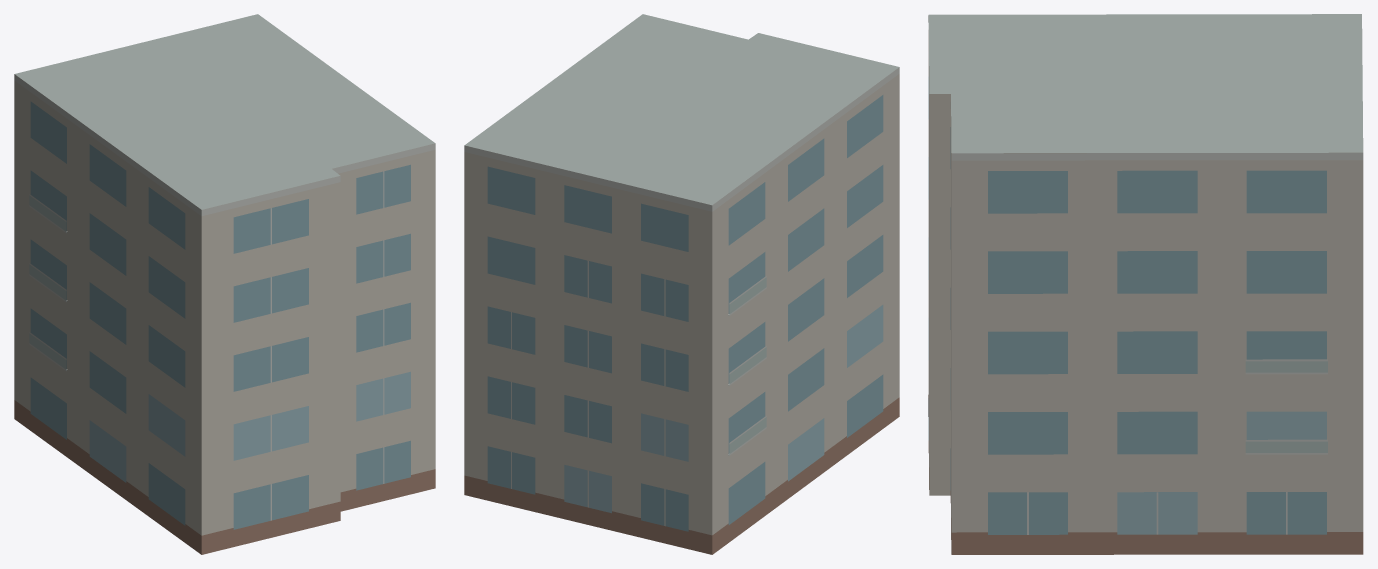
The model's file is survey-upis-32992897.glb.
3 renders of one model, left to right at view 1: azimuth 30°, elevation 25°; view 2: azimuth 150°, elevation 25°; view 3: azimuth 270°, elevation 25°, orthographic. The views are drawn at different scales.
Parts seen in each view (by area): view 1: survey-upis-32992897.tmp; view 2: survey-upis-32992897.tmp; view 3: survey-upis-32992897.tmp.
Boxes of the visible parts, x1,y1,x2,y2 form: survey-upis-32992897.tmp: [14, 14, 435, 554]; survey-upis-32992897.tmp: [464, 14, 899, 554]; survey-upis-32992897.tmp: [928, 14, 1363, 554].
Size of the model in its own units: 9.82 by 13.15 by 12.91.
